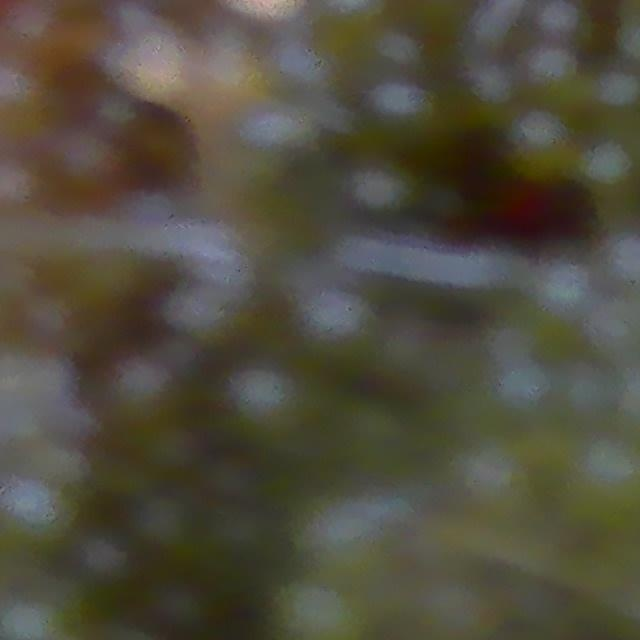SeaGrape: (220, 358, 309, 444), (272, 575, 370, 640), (572, 436, 640, 522)
